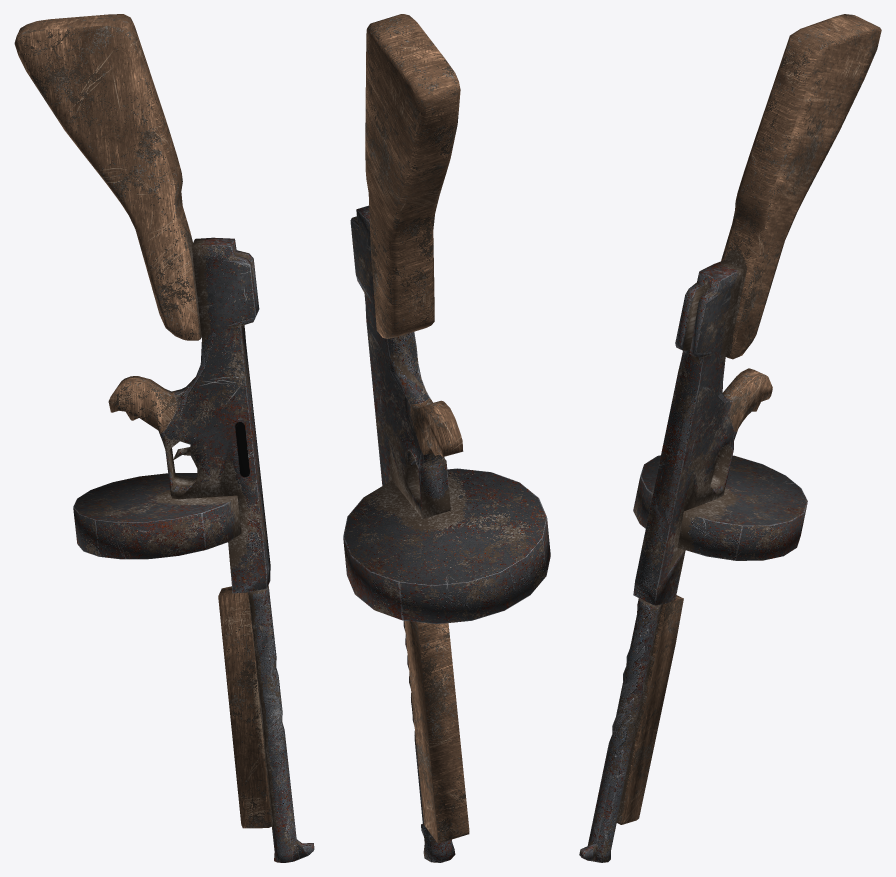
File: Anim_idle_ametralladora_objetos.0040.obj
3 views of the same model, side by side, from view 1: azimuth 30°, elevation 25°; view 2: azimuth 150°, elevation 25°; view 3: azimuth 270°, elevation 25° (orthographic). The views are drawn at different scales.
Parts seen in each view (by area): view 1: Ametralladora1; view 2: Ametralladora1; view 3: Ametralladora1.
Part boxes in pixels (left/top/right/bottom): Ametralladora1: left=14, top=14, right=314, bottom=862; Ametralladora1: left=343, top=14, right=550, bottom=862; Ametralladora1: left=579, top=14, right=881, bottom=862.
Bounding box in the file's own units: 1.29 × 5.87 × 2.03.
